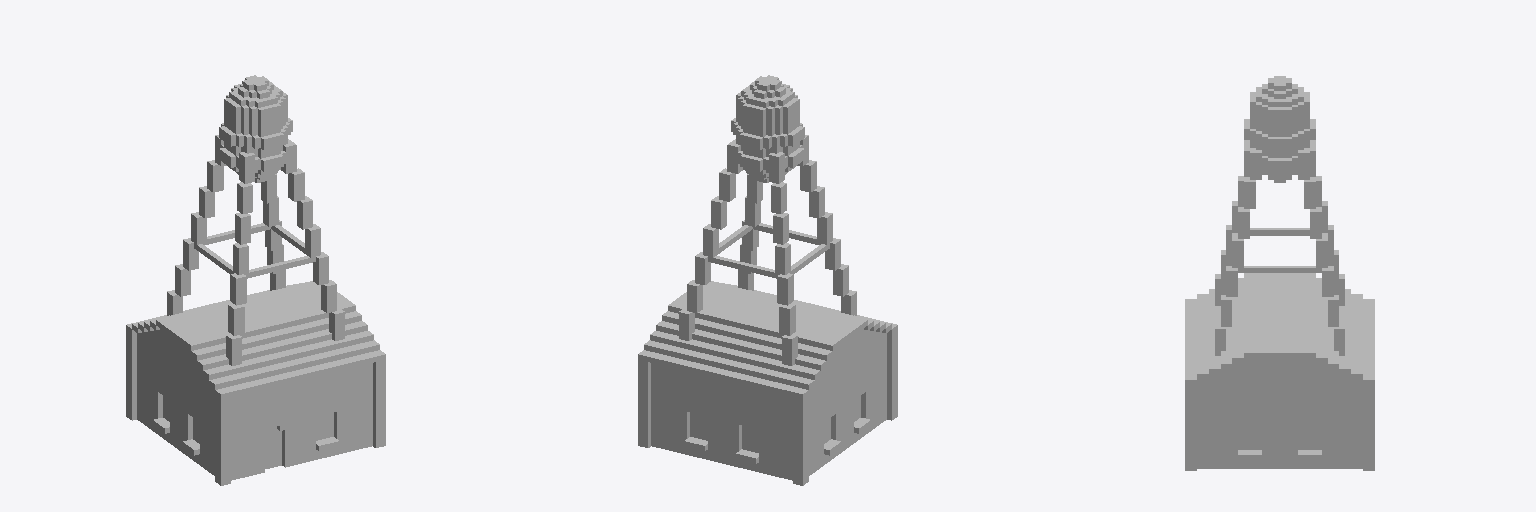
Rendered from tower.obj.
The picture shows the model from 3 angles: view 1: azimuth 30°, elevation 25°; view 2: azimuth 150°, elevation 25°; view 3: azimuth 270°, elevation 25°; orthographic projection.
Visible parts, largest first — view 1: object 1; view 2: object 1; view 3: object 1.
Boxes of the visible parts, x1=… form: object 1: x1=126, y1=75, x2=385, y2=485; object 1: x1=638, y1=75, x2=897, y2=485; object 1: x1=1185, y1=76, x2=1374, y2=470.
Bounding box in the file's own units: 3.2 × 6.5 × 3.2.